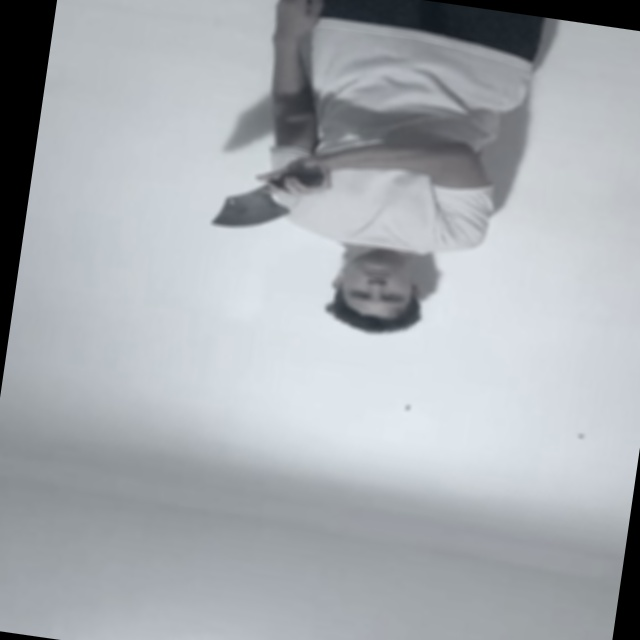Sharp-Object: (211, 187, 294, 240)
